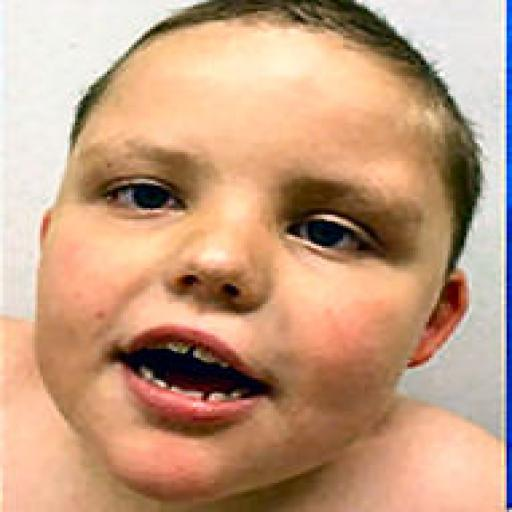Autism: (43, 13, 512, 512)
